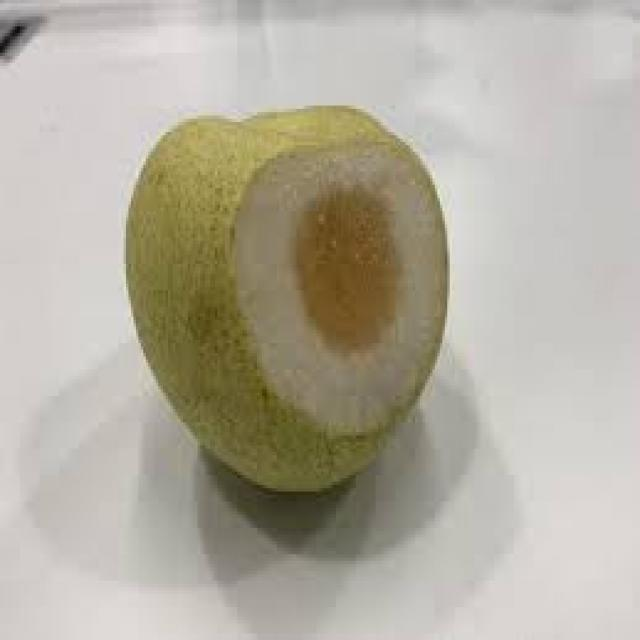organic waste: (121, 102, 447, 492)
